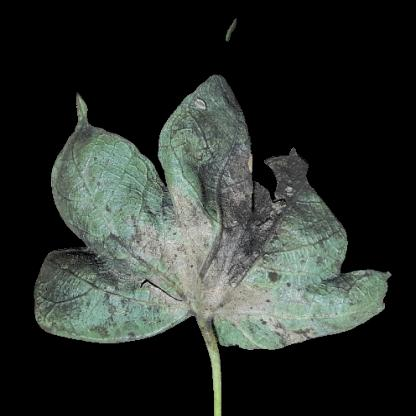curl_stage2: (94, 136, 140, 216)
sooty: (201, 103, 257, 245), (252, 256, 334, 344), (88, 224, 157, 297), (89, 293, 175, 345), (186, 234, 264, 288), (41, 255, 87, 334), (249, 192, 287, 257)
